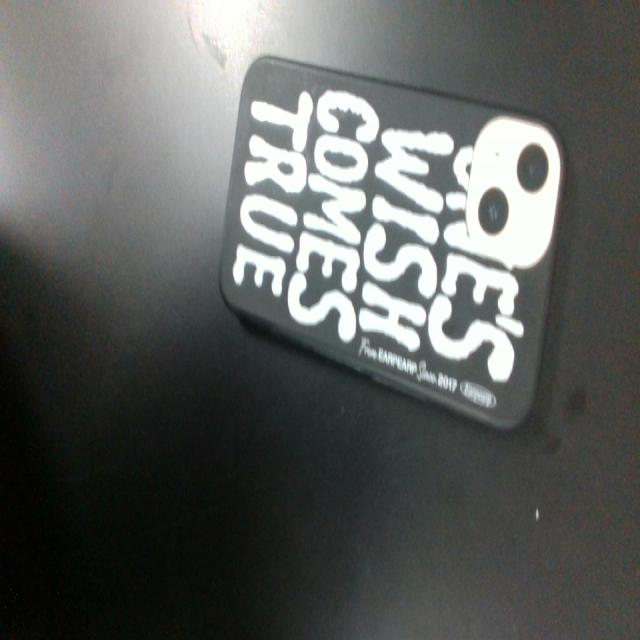phone: (209, 13, 569, 461)
